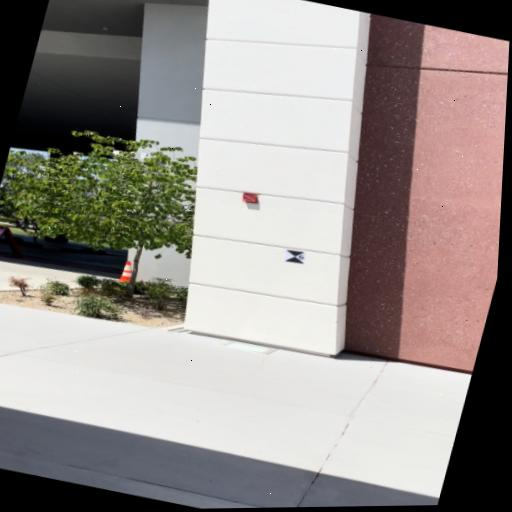target6: (285, 249, 304, 264)
